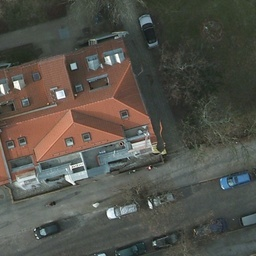car: (138, 14, 159, 48), (219, 170, 252, 191), (195, 217, 227, 237), (148, 189, 177, 208), (153, 232, 187, 247), (107, 202, 138, 217), (35, 222, 62, 238)
